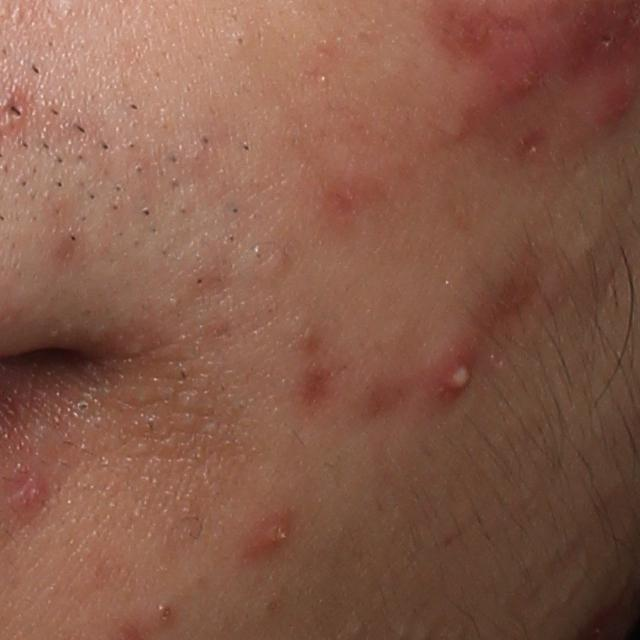comedo: (232, 31, 251, 53)
papule: (491, 49, 546, 104), (588, 80, 637, 133), (10, 469, 50, 518)
pustule: (426, 341, 483, 406), (238, 508, 297, 561)
